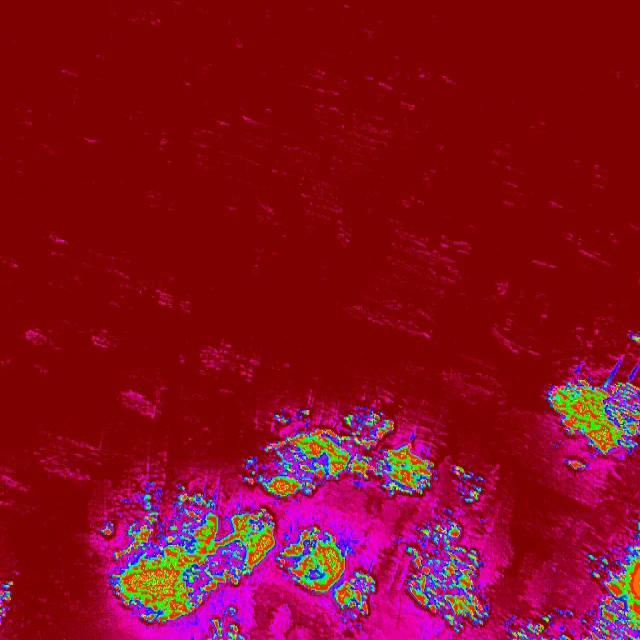fire: (100, 509, 276, 640), (242, 402, 440, 502), (400, 510, 490, 634), (276, 524, 378, 621), (548, 354, 640, 454), (579, 540, 640, 640), (503, 606, 578, 640), (450, 464, 484, 504), (124, 478, 162, 511), (172, 482, 215, 508), (0, 580, 14, 624), (563, 454, 591, 475), (627, 329, 640, 346)
